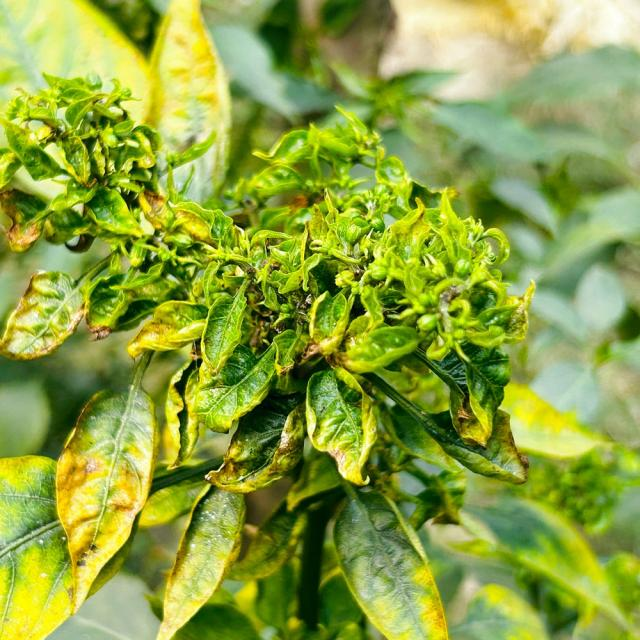Chilli_Leaf_Curl: (1, 69, 537, 638), (1, 70, 162, 253), (53, 383, 158, 608), (331, 486, 449, 638), (154, 484, 247, 639), (0, 453, 77, 638), (304, 365, 378, 487), (1, 268, 87, 361)
